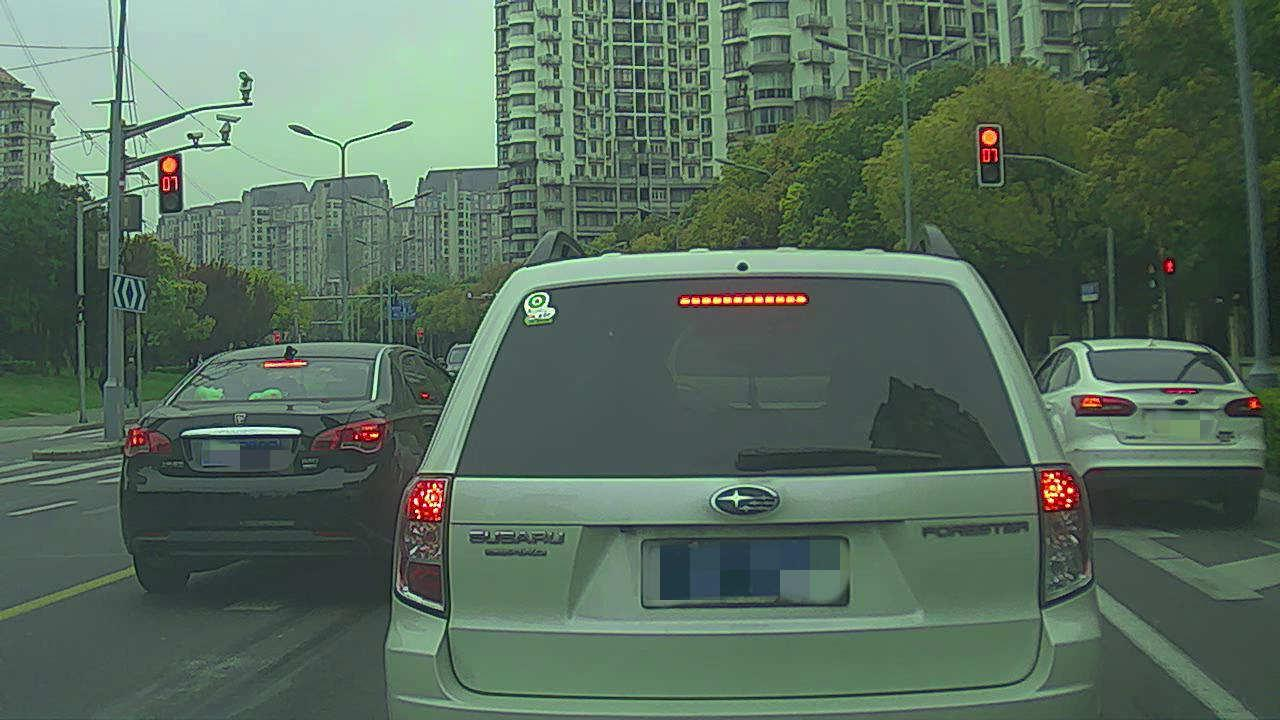traffic_light: (979, 127, 1003, 189), (161, 156, 183, 213)
